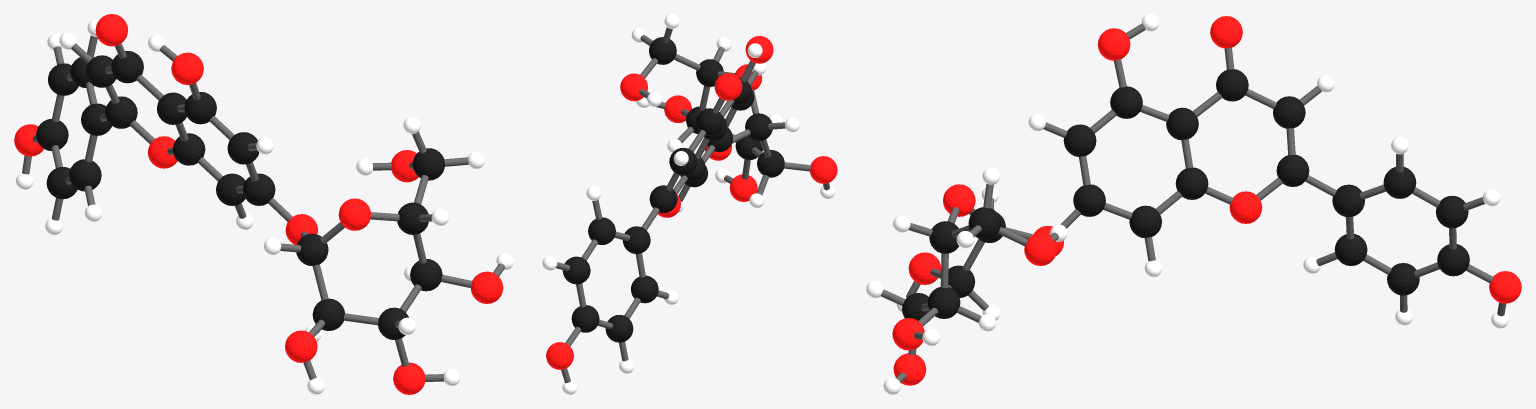
Rendered from molecule.glb.
3 views of the same model, side by side, from view 1: azimuth 30°, elevation 25°; view 2: azimuth 150°, elevation 25°; view 3: azimuth 270°, elevation 25° (orthographic). The views are drawn at different scales.
Visible parts, largest first — view 1: geometry_17, geometry_29, geometry_26, geometry_0, geometry_22, geometry_24, geometry_3, geometry_5, geometry_7, geometry_14, geometry_19, geometry_12 (+18 smaller); view 2: geometry_0, geometry_26, geometry_8, geometry_7, geometry_10, geometry_5, geometry_3, geometry_4, geometry_6, geometry_9, geometry_20, geometry_1 (+12 smaller); view 3: geometry_0, geometry_20, geometry_29, geometry_8, geometry_1, geometry_2, geometry_11, geometry_14, geometry_12, geometry_13, geometry_28, geometry_3 (+16 smaller).
Boxes of the visible parts, x1,y1,x2,y2 form: geometry_17: [338, 198, 371, 230]; geometry_29: [171, 52, 203, 84]; geometry_26: [285, 330, 317, 362]; geometry_0: [95, 14, 127, 46]; geometry_22: [471, 271, 503, 303]; geometry_24: [393, 362, 425, 394]; geometry_3: [105, 96, 137, 128]; geometry_5: [69, 159, 101, 191]; geometry_7: [36, 119, 68, 150]; geometry_14: [243, 173, 275, 205]; geometry_19: [412, 148, 444, 180]; geometry_12: [172, 133, 205, 165]; geometry_0: [714, 73, 742, 100]; geometry_26: [810, 156, 837, 183]; geometry_8: [546, 342, 573, 369]; geometry_7: [571, 305, 599, 332]; geometry_10: [588, 217, 615, 244]; geometry_5: [631, 275, 658, 303]; geometry_3: [649, 185, 677, 212]; geometry_4: [622, 226, 650, 253]; geometry_6: [605, 315, 633, 342]; geometry_9: [562, 256, 590, 284]; geometry_20: [620, 73, 647, 101]; geometry_1: [696, 108, 723, 135]; geometry_0: [1210, 16, 1242, 48]; geometry_20: [1024, 233, 1056, 265]; geometry_29: [1097, 28, 1130, 60]; geometry_8: [1489, 271, 1521, 303]; geometry_1: [1216, 69, 1248, 101]; geometry_2: [1273, 96, 1305, 128]; geometry_11: [1229, 191, 1262, 223]; geometry_14: [1073, 184, 1105, 216]; geometry_12: [1175, 167, 1208, 199]; geometry_13: [1129, 205, 1161, 238]; geometry_28: [1110, 86, 1142, 118]; geometry_3: [1276, 155, 1309, 186].
Bounding box in the file's own units: 0.1232 × 0.1331 × 0.26.
